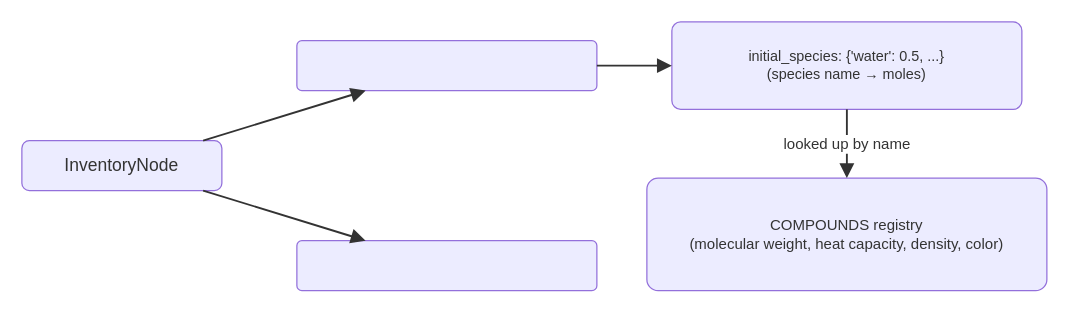
Image size: 1069x313. Some labels were removed from this diagram. Each missing label, with the centre of its shape:
"gas_content: VolumeContentBase" belongs at point (446, 265).
"liq_content: VolumeContentBase" belongs at point (446, 65).
